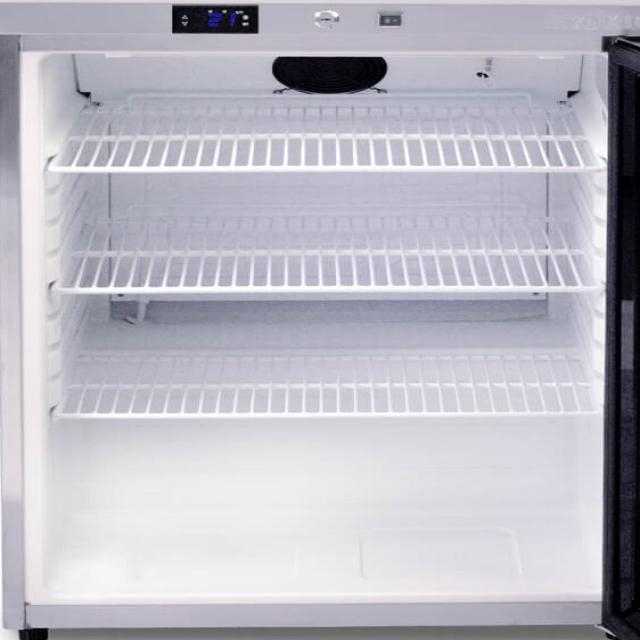fridge-space: (53, 325, 601, 410), (68, 208, 606, 289), (45, 90, 596, 167)
